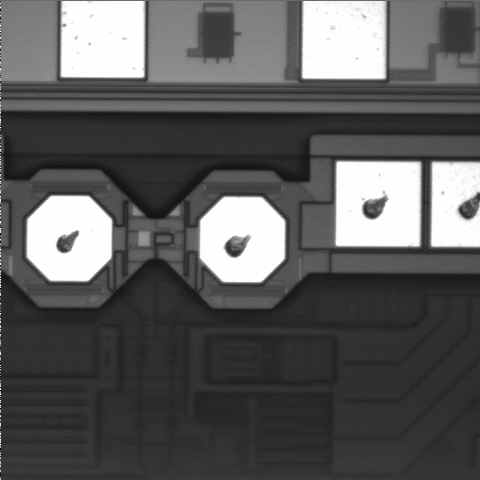pad: (335, 161, 421, 247), (199, 197, 285, 283), (27, 196, 112, 281)
